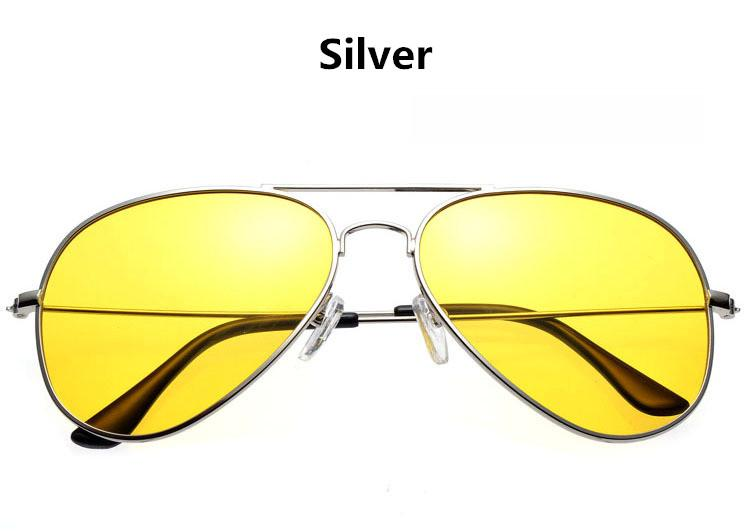sunglasses: (20, 172, 727, 482)
